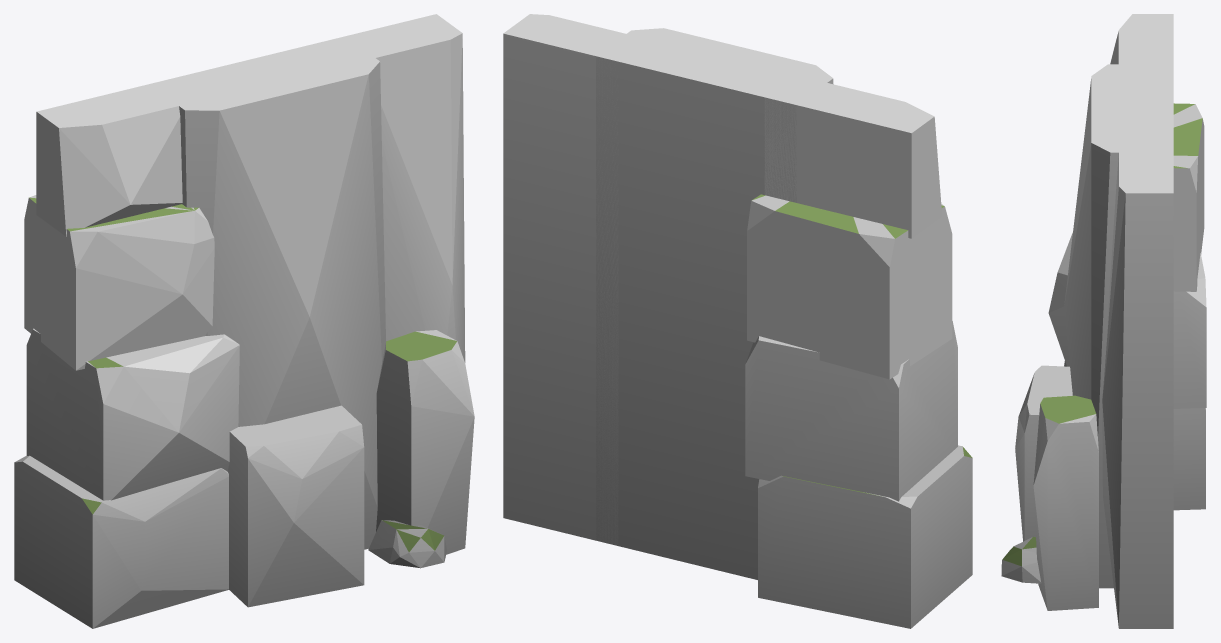
3 renders of one model, left to right at view 1: azimuth 30°, elevation 25°; view 2: azimuth 150°, elevation 25°; view 3: azimuth 270°, elevation 25°, orthographic. The views are drawn at different scales.
Visible parts, largest first — view 1: rk_cf4_2; view 2: rk_cf4_2; view 3: rk_cf4_2.
Boxes of the visible parts, x1,y1,x2,y2 form: rk_cf4_2: (14,14,474,628); rk_cf4_2: (503,14,972,628); rk_cf4_2: (1001,14,1206,628).
Bounding box in the file's own units: 33.97 × 37.5 × 15.99.
